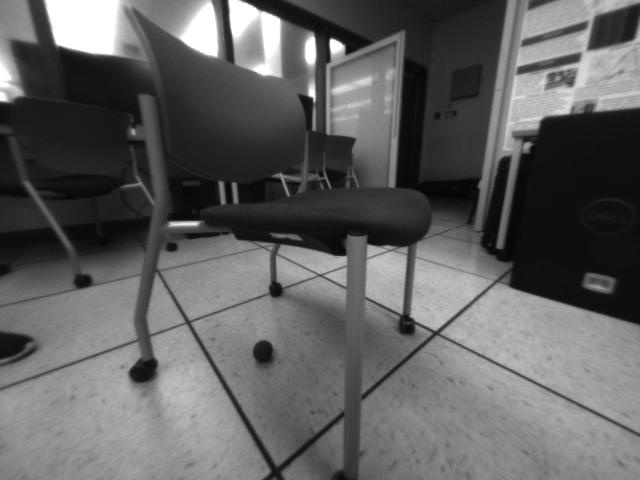dogtoy: (245, 334, 278, 369)
